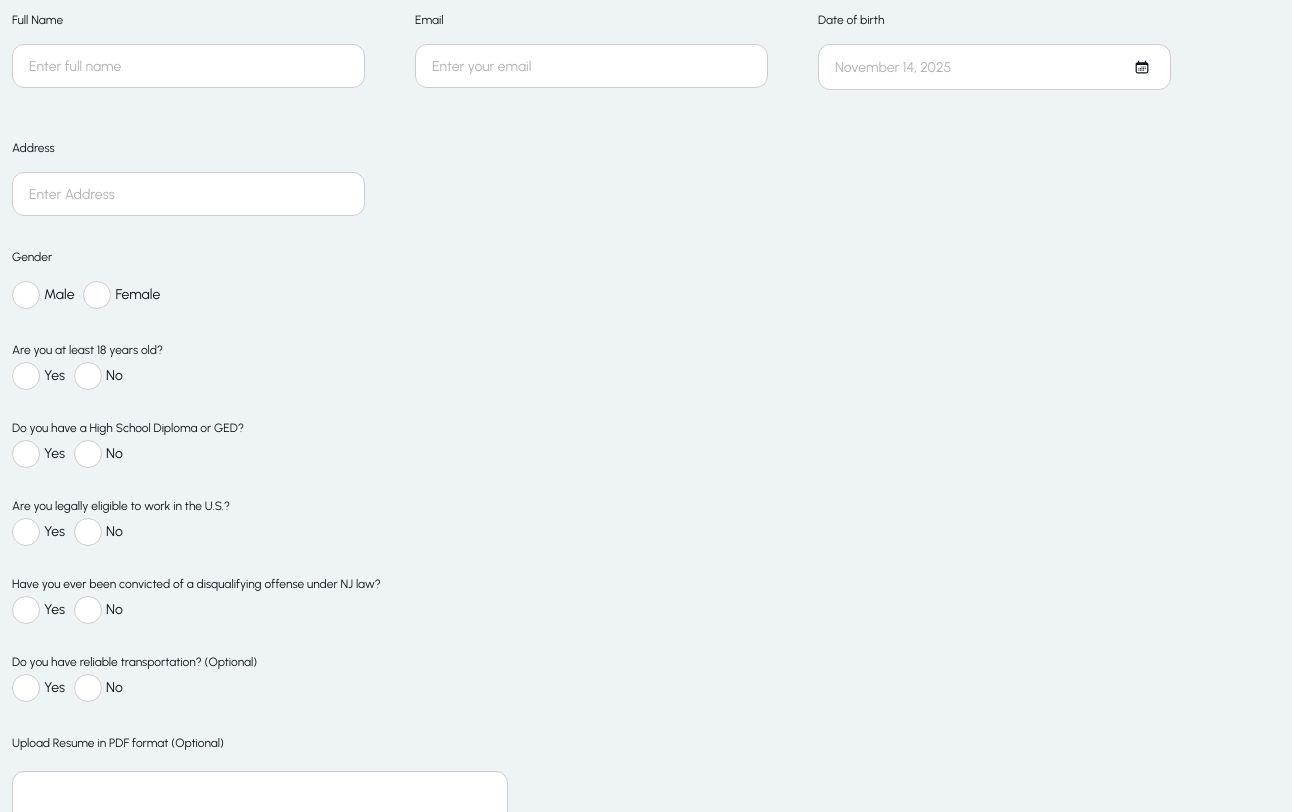
Test: ProfilePreScreeningStep › Form Interactions › allows user to select gender
This screenshot has width=1292, height=812.
Expected: the field with placeholder "Enter full name" is shown, [12,44,365,88]
Click the radio button labelled "Male" at (43, 295), box [12,281,74,309]
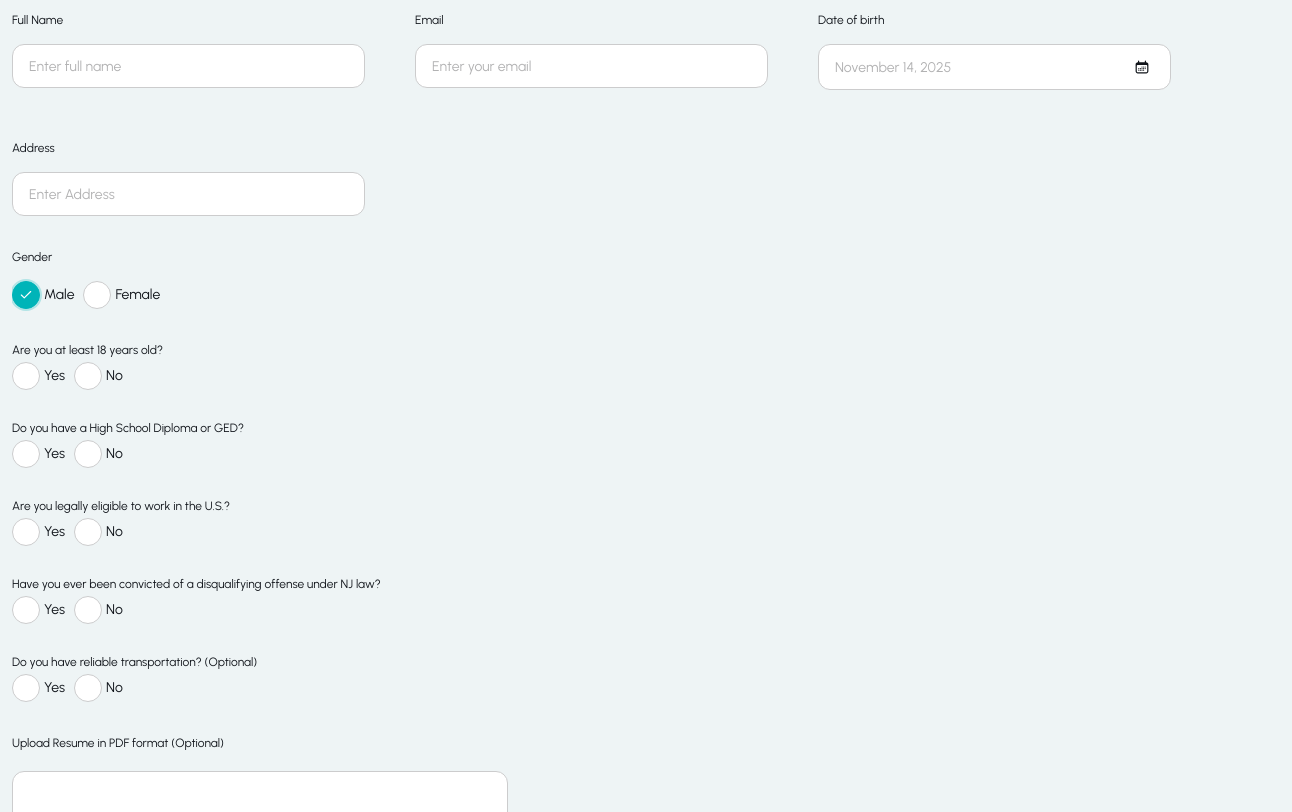
Result: the radio button labelled "Male" is checked at [12,281,74,309]
